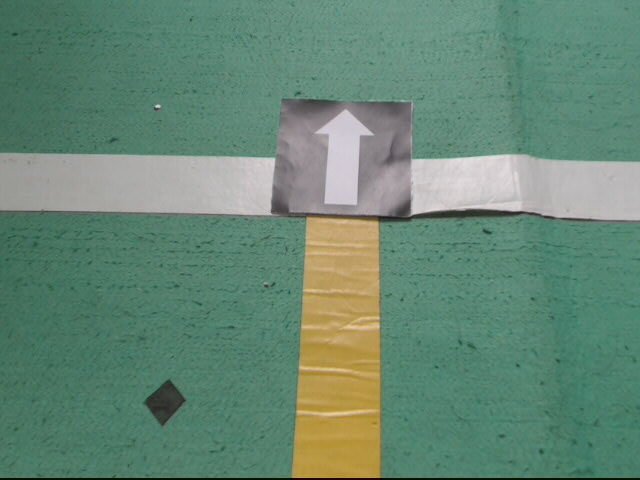straight: (272, 101, 413, 220)
